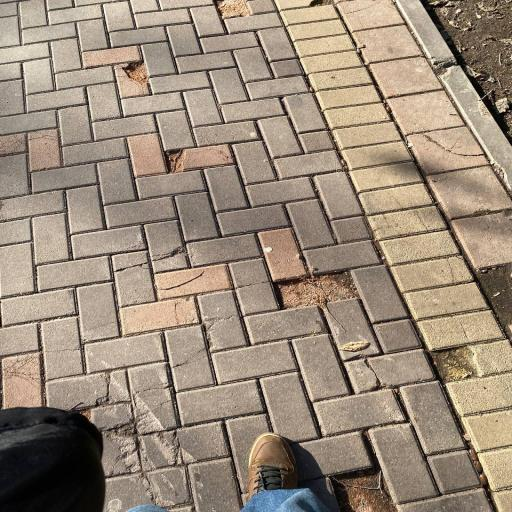door: (0, 407, 105, 512)
shelf: (0, 0, 511, 511)
